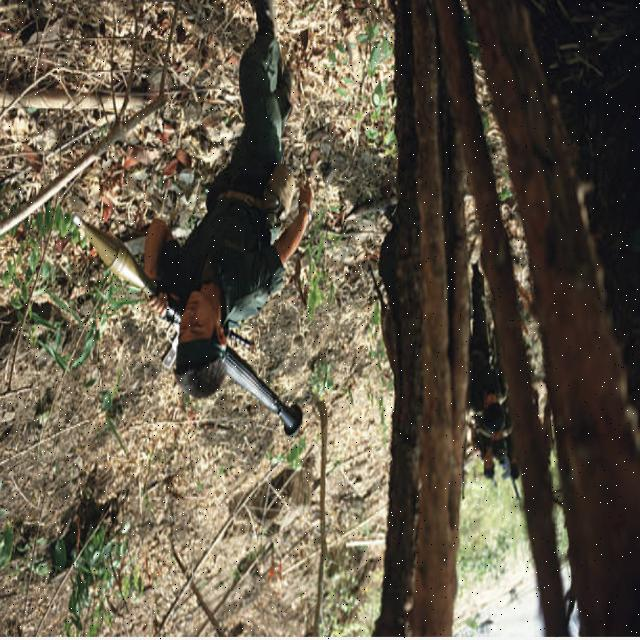bazooka: (70, 195, 319, 450)
